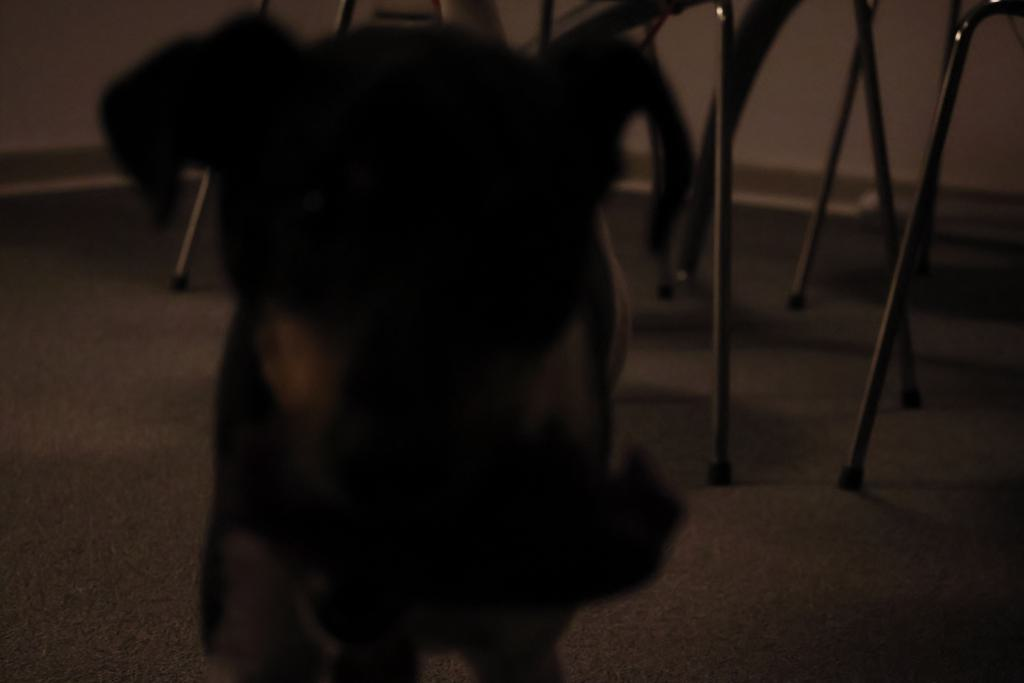Dog: (88, 0, 721, 683)
